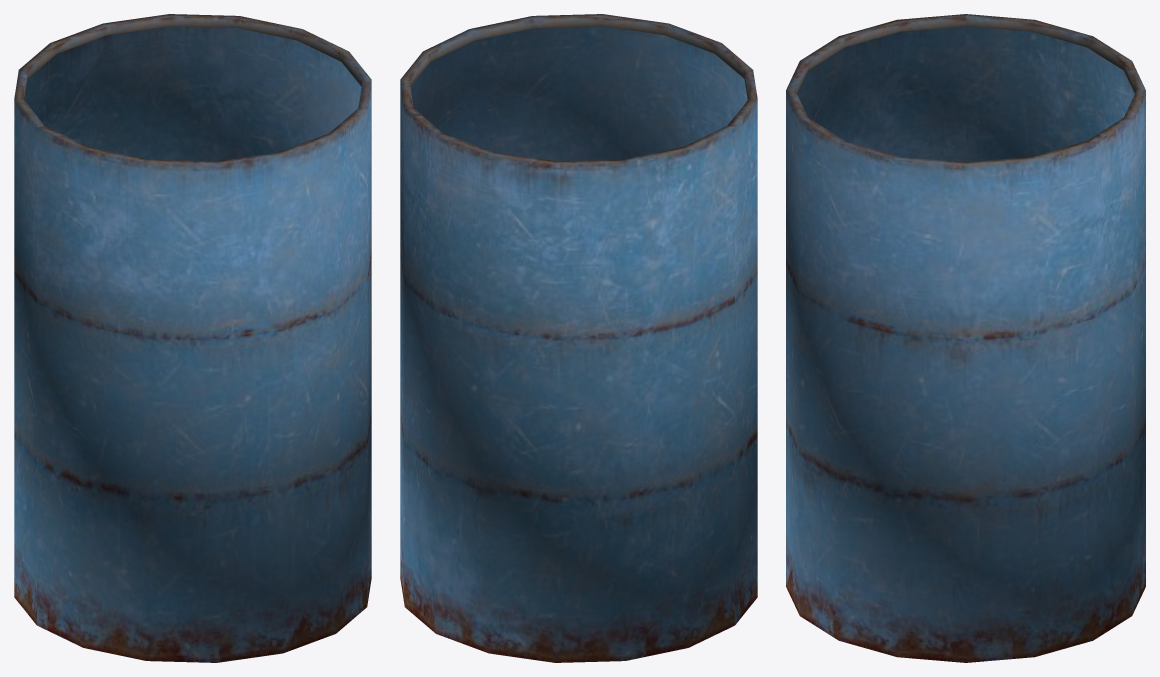
The model's file is low_poly_oil_drum.glb.
The picture shows the model from 3 angles, left to right: view 1: azimuth 30°, elevation 25°; view 2: azimuth 150°, elevation 25°; view 3: azimuth 270°, elevation 25°; orthographic projection.
Parts seen in each view (by area): view 1: Drum_a_low; view 2: Drum_a_low; view 3: Drum_a_low.
Part boxes in pixels (left/top/right/bottom): Drum_a_low: left=14, top=14, right=371, bottom=662; Drum_a_low: left=400, top=14, right=757, bottom=662; Drum_a_low: left=786, top=14, right=1145, bottom=662.
Size of the model in its own units: 1.32 by 2.01 by 1.32.
Materials: 1 (1 with a texture image).
